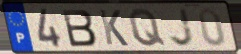0: (197, 7, 227, 48)
4: (36, 7, 64, 50)
B: (60, 8, 99, 48)
J: (168, 7, 196, 48)
K: (97, 8, 130, 48)
Q: (127, 7, 167, 48)
